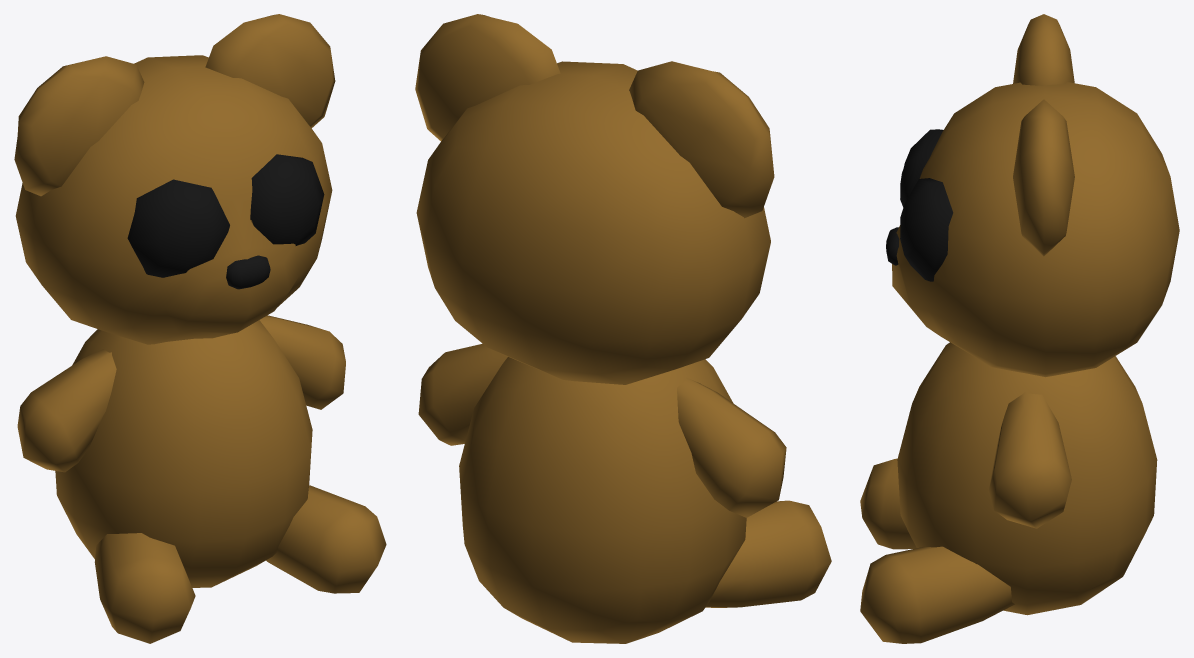
The model's file is TeddyBear.fbx.
3 renders of one model, left to right at view 1: azimuth 30°, elevation 25°; view 2: azimuth 150°, elevation 25°; view 3: azimuth 270°, elevation 25°, orthographic. The views are drawn at different scales.
Visible parts, largest first — view 1: Prop_TeddyBear_03; view 2: Prop_TeddyBear_03; view 3: Prop_TeddyBear_03.
Boxes of the visible parts, box(x1,y1,x2,y2) form: Prop_TeddyBear_03: box(14, 14, 386, 643); Prop_TeddyBear_03: box(415, 14, 831, 643); Prop_TeddyBear_03: box(860, 14, 1179, 643).
Bounding box in the file's own units: 30.47 × 48.17 × 26.06.
1 material, 1 textured.
